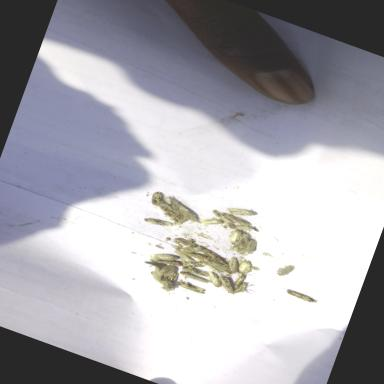pbw: (266, 258, 296, 284), (226, 200, 258, 222), (213, 272, 240, 296), (284, 288, 320, 306), (174, 280, 207, 298), (178, 254, 207, 274), (148, 248, 178, 267), (236, 236, 258, 260), (236, 258, 260, 280), (220, 211, 252, 227), (204, 258, 234, 275), (143, 214, 173, 231), (210, 209, 238, 227), (198, 212, 224, 231), (181, 264, 211, 280), (228, 219, 256, 236), (179, 270, 210, 285), (182, 240, 207, 258), (234, 278, 256, 298), (179, 247, 207, 262), (146, 188, 165, 208), (149, 264, 168, 284), (204, 250, 228, 265), (224, 255, 242, 274), (206, 271, 225, 289), (143, 257, 167, 271), (235, 232, 250, 254), (160, 277, 178, 295), (173, 250, 197, 263), (174, 236, 198, 249), (156, 198, 178, 212), (160, 262, 178, 279), (231, 272, 248, 288), (229, 228, 244, 245), (166, 270, 180, 284)
